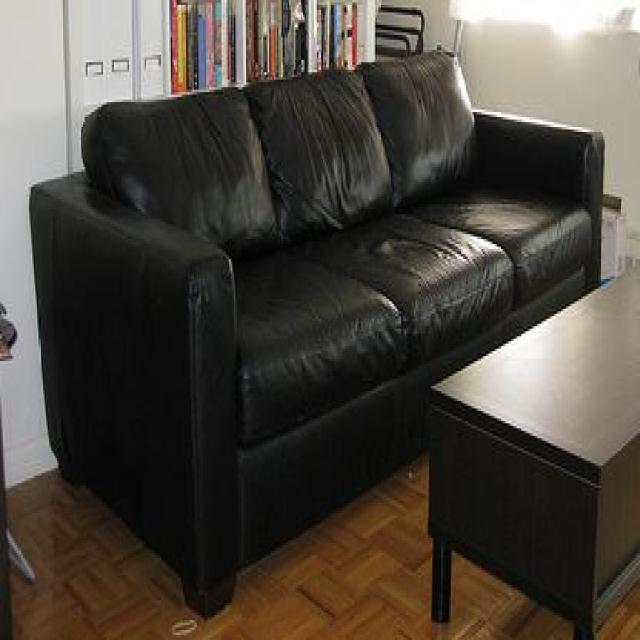sofa: (28, 45, 604, 618)
